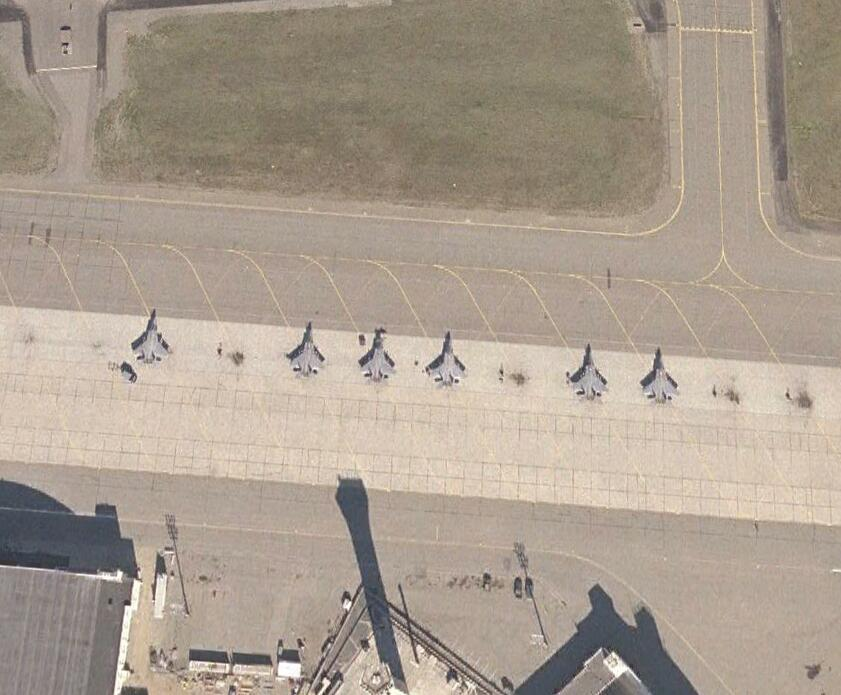A13: (423, 329, 469, 387), (569, 341, 612, 401), (129, 306, 171, 363), (640, 346, 680, 405), (287, 319, 326, 379), (357, 328, 398, 382)
